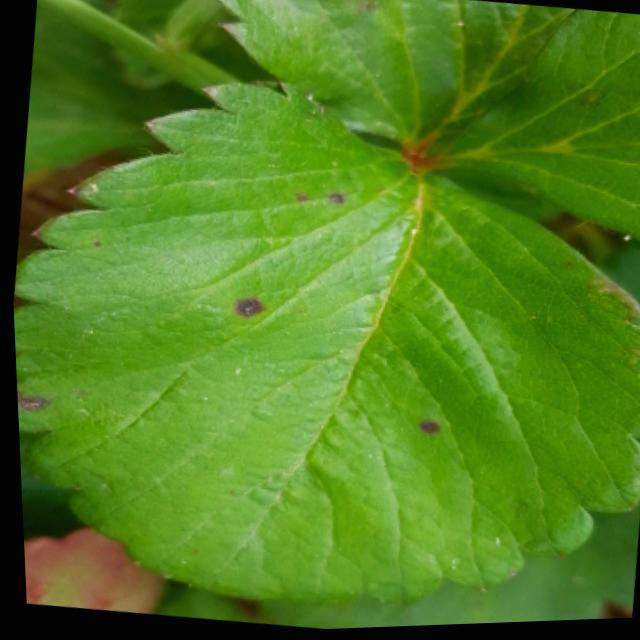Leaf Spot: (11, 82, 640, 612), (15, 426, 74, 540)
